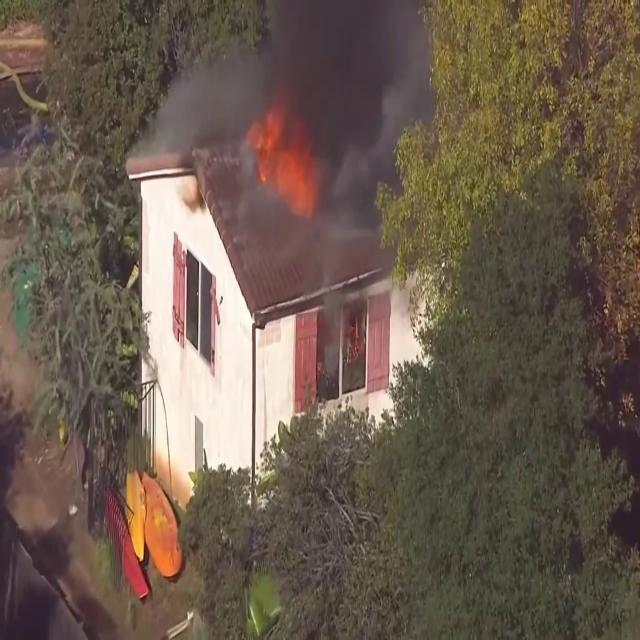Smoke: (141, 1, 415, 315)
